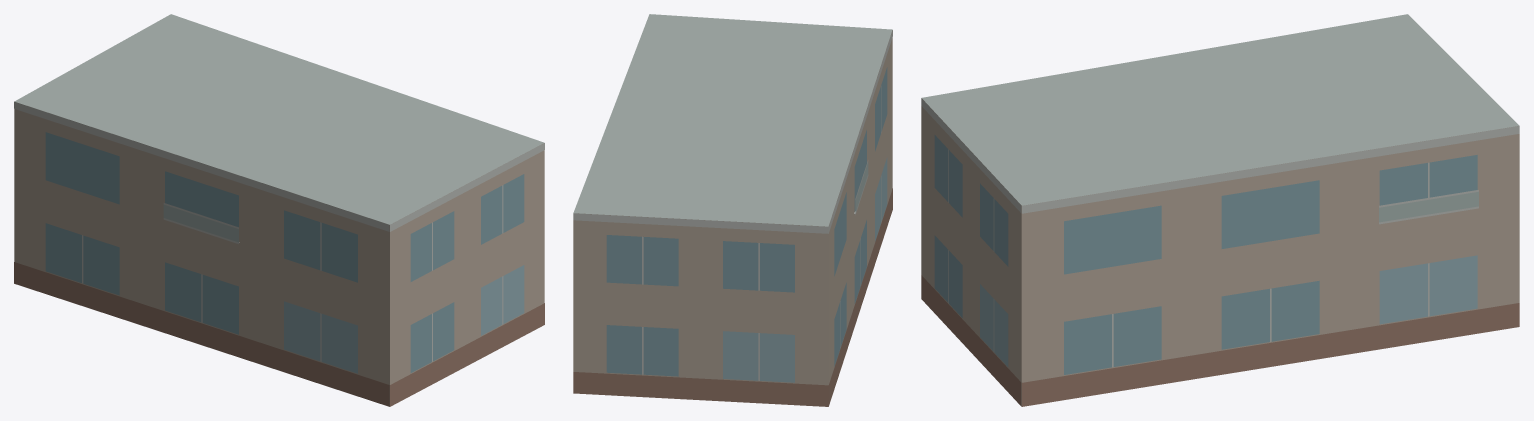
The model's file is survey-upis-32581202.glb.
3 views of the same model, side by side, from view 1: azimuth 30°, elevation 25°; view 2: azimuth 150°, elevation 25°; view 3: azimuth 270°, elevation 25° (orthographic). The views are drawn at different scales.
Parts seen in each view (by area): view 1: survey-upis-32581202.tmp; view 2: survey-upis-32581202.tmp; view 3: survey-upis-32581202.tmp.
Boxes of the visible parts, x1,y1,x2,y2 form: survey-upis-32581202.tmp: (14, 14, 544, 406); survey-upis-32581202.tmp: (573, 14, 892, 406); survey-upis-32581202.tmp: (921, 14, 1519, 406).
Size of the model in its own units: 12.48 by 6.1 by 16.45.
